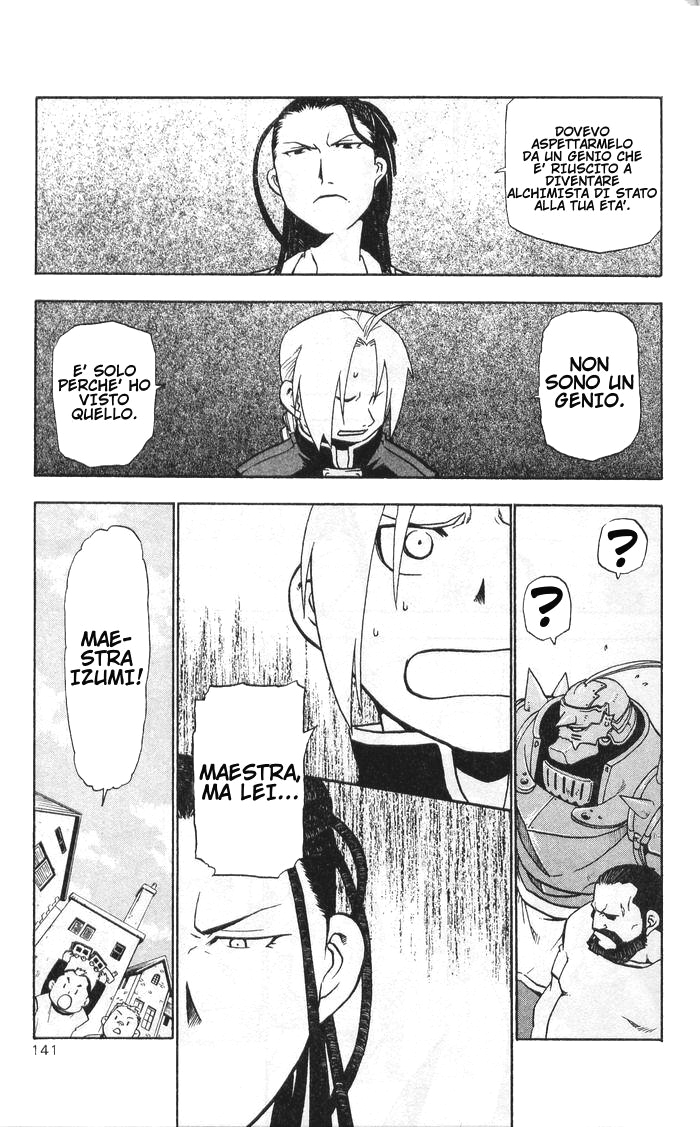Baloon: (503, 95, 662, 252), (62, 523, 147, 814), (191, 682, 315, 876), (538, 311, 640, 459), (55, 323, 159, 466), (522, 576, 576, 644), (598, 516, 645, 580)
Vignetta: (178, 502, 511, 1127), (33, 297, 664, 482), (38, 97, 660, 278), (517, 506, 662, 1039), (36, 501, 174, 1040)
